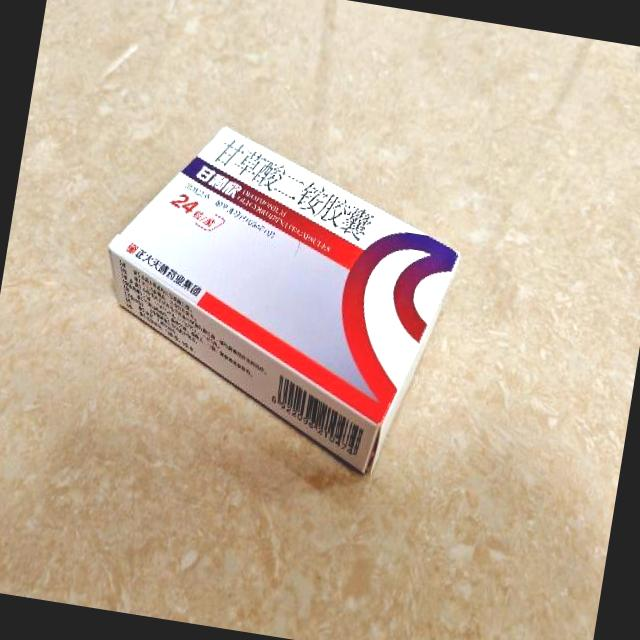box: (82, 111, 474, 482)
